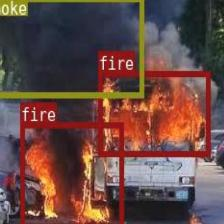fire: (20, 121, 122, 224), (97, 70, 210, 156)
smoke: (0, 0, 143, 96)
